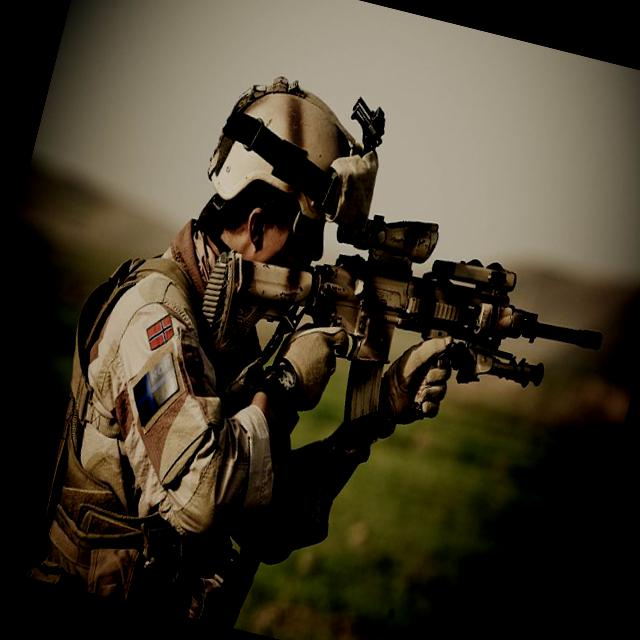long weapon: (166, 149, 630, 461)
